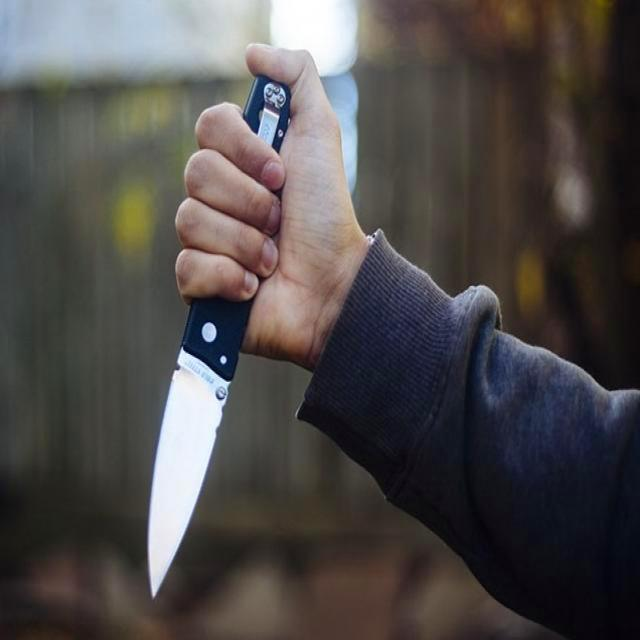Knife: (148, 299, 251, 596)
Knife_Handle: (122, 31, 374, 610)
